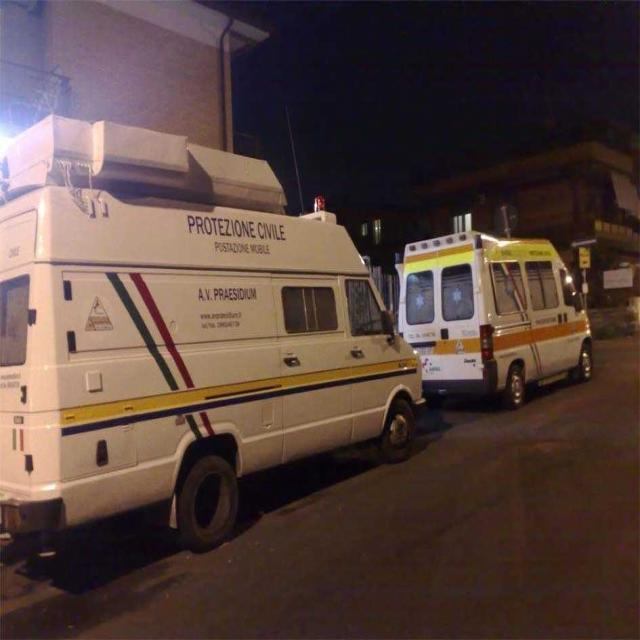emergency-vehicle: (1, 112, 596, 554)
